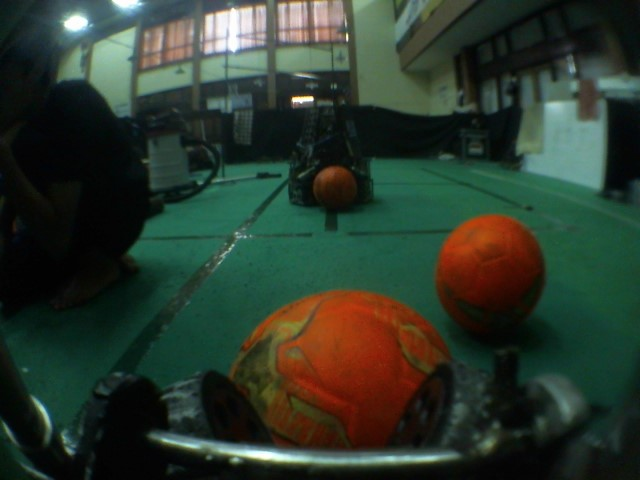ball: (226, 288, 422, 442), (426, 209, 550, 332), (309, 163, 364, 219)
